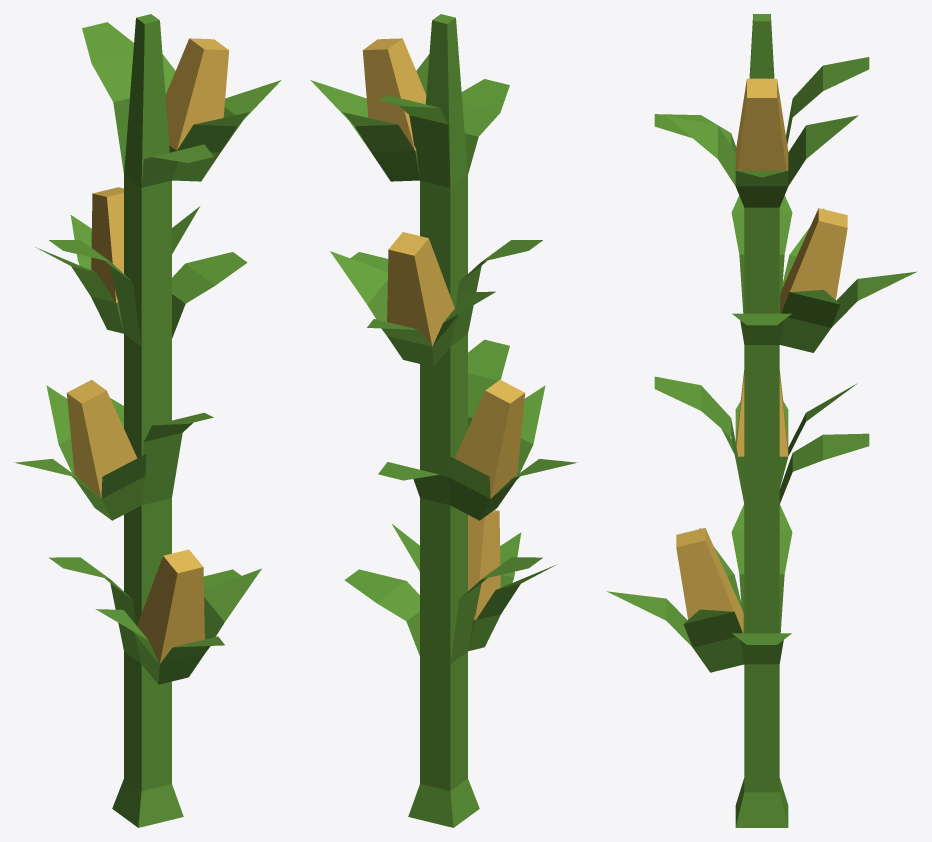
Rendered from crop_corn.glb.
3 views of the same model, side by side, from view 1: azimuth 30°, elevation 25°; view 2: azimuth 150°, elevation 25°; view 3: azimuth 270°, elevation 25° (orthographic).
Visible parts, largest first — view 1: Mesh crops_cornStageD, corn (×4); view 2: Mesh crops_cornStageD, corn (×4); view 3: Mesh crops_cornStageD, corn (×4).
Part boxes in pixels (x1=…): Mesh crops_cornStageD: x1=49, y1=14, x2=247, y2=827; corn (×4): x1=14, y1=38, x2=281, y2=684; Mesh crops_cornStageD: x1=344, y1=14, x2=542, y2=827; corn (×4): x1=310, y1=38, x2=577, y2=651; Mesh crops_cornStageD: x1=654, y1=14, x2=869, y2=827; corn (×4): x1=607, y1=78, x2=916, y2=672.
Size of the model in its own units: 0.7772 by 2.2 by 0.7772.
